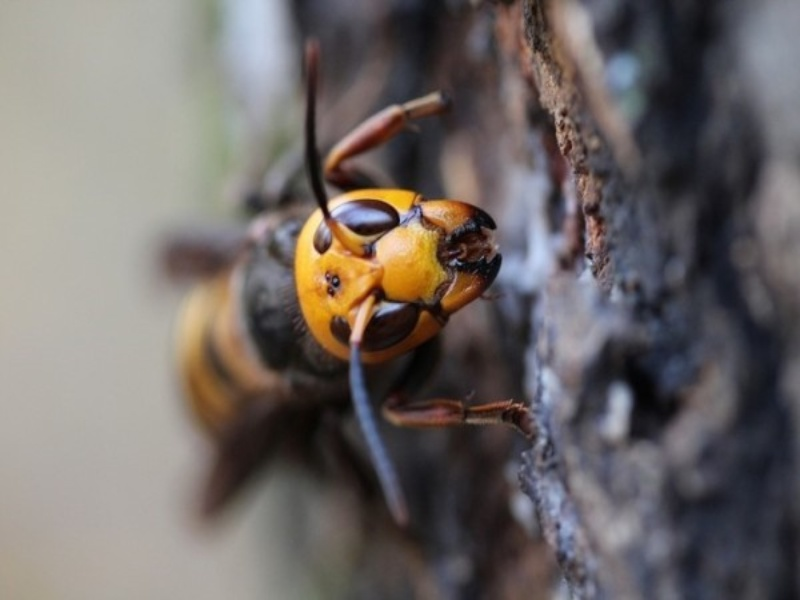asian_giant_hornet: (161, 38, 549, 537)
